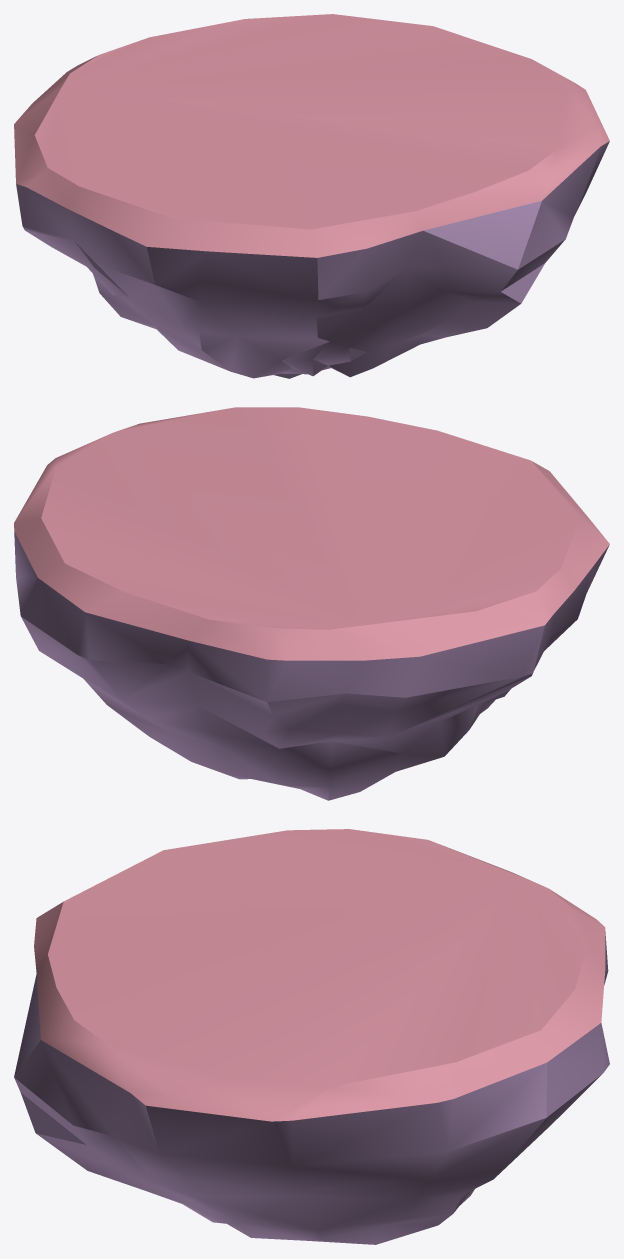
File: ile1.fbx
The picture shows the model from 3 angles, top to bottom: view 1: azimuth 30°, elevation 25°; view 2: azimuth 150°, elevation 25°; view 3: azimuth 270°, elevation 25°; orthographic projection. The views are drawn at different scales.
Visible parts, largest first — view 1: polySurface2; view 2: polySurface2; view 3: polySurface2.
Boxes of the visible parts, left/top/right/bottom form: polySurface2: left=14, top=14, right=609, bottom=378; polySurface2: left=14, top=407, right=609, bottom=800; polySurface2: left=14, top=829, right=609, bottom=1244.
Size of the model in its own units: 17.11 by 7.88 by 15.26.
